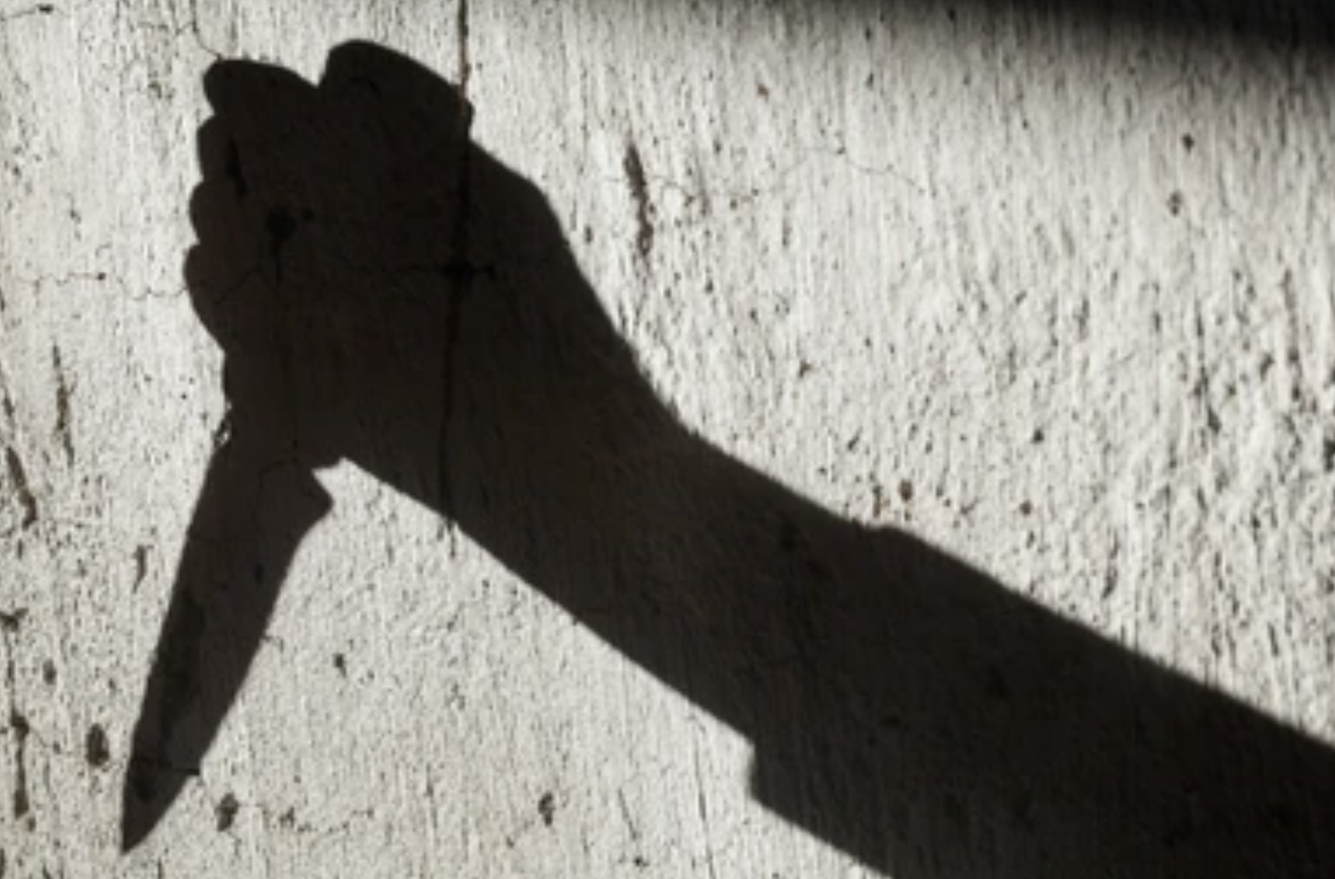knife_49.png: (59, 31, 526, 860)
